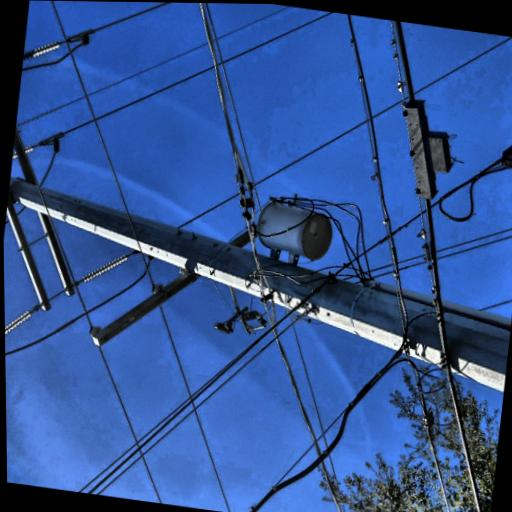pole: (0, 0, 203, 502)
transformer: (83, 380, 144, 479)
